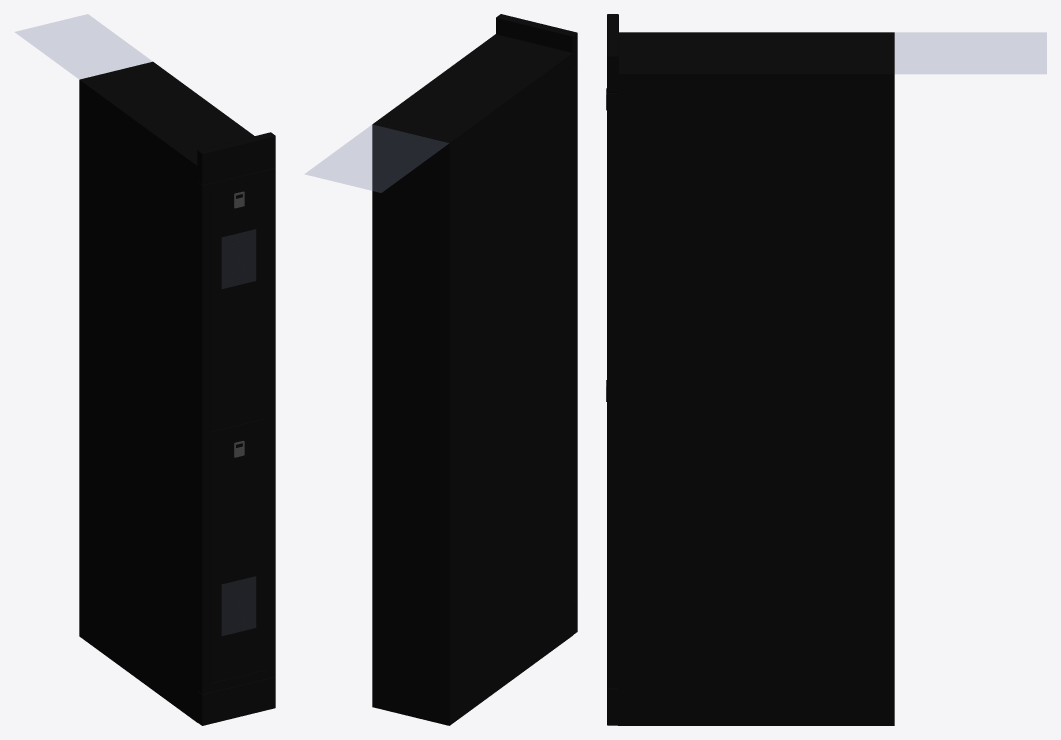
File: GKG.FBX
3 views of the same model, side by side, from view 1: azimuth 30°, elevation 25°; view 2: azimuth 150°, elevation 25°; view 3: azimuth 270°, elevation 25° (orthographic). The views are drawn at different scales.
Visible parts, largest first — view 1: 管控柜; view 2: 管控柜; view 3: 管控柜.
Boxes of the visible parts, left/top/right/bottom form: 管控柜: left=15, top=14, right=275, bottom=725; 管控柜: left=305, top=14, right=577, bottom=725; 管控柜: left=606, top=14, right=1046, bottom=725.
Bounding box in the file's own units: 425 × 3151 × 1878.
4 materials, 1 textured.
